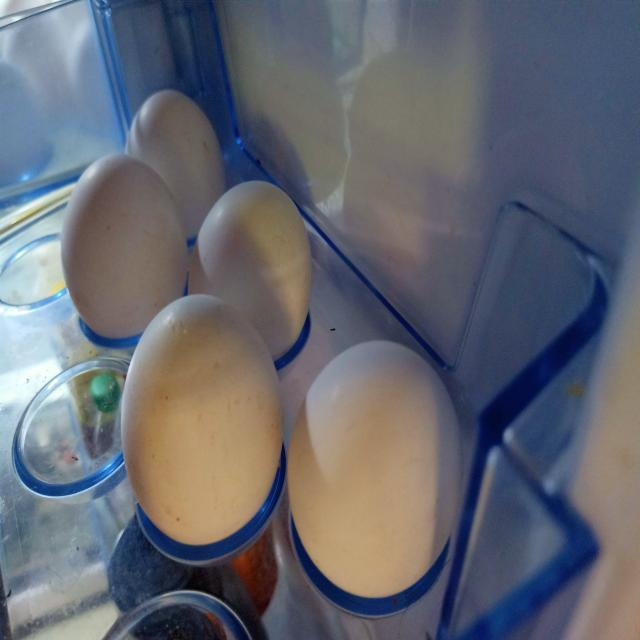Egg: (225, 330, 480, 640), (113, 293, 285, 549), (60, 154, 192, 344), (189, 182, 314, 370), (125, 91, 230, 252)
